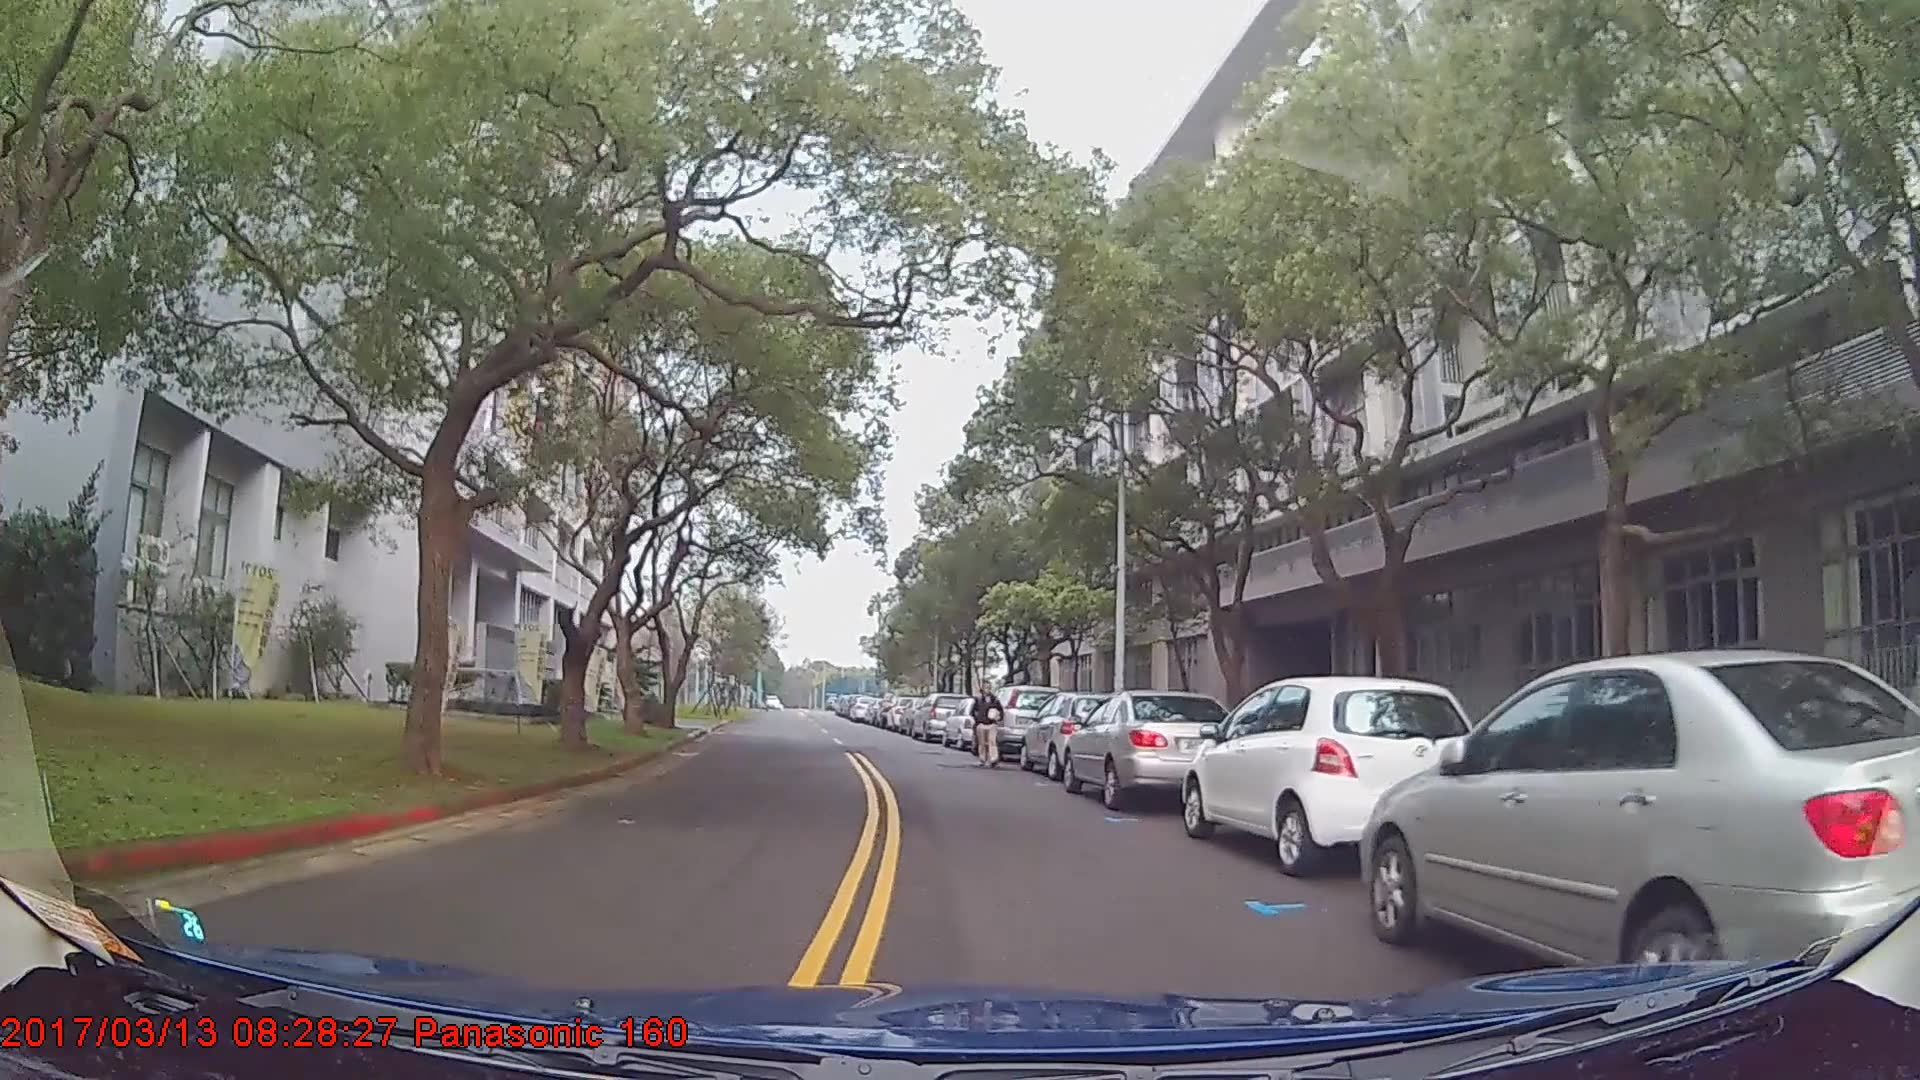pedestrian: (972, 676, 1007, 765)
vehicle: (1355, 648, 1920, 1019), (1183, 670, 1486, 876), (1061, 688, 1242, 808), (1020, 687, 1138, 778), (979, 682, 1062, 757), (909, 691, 967, 742)
